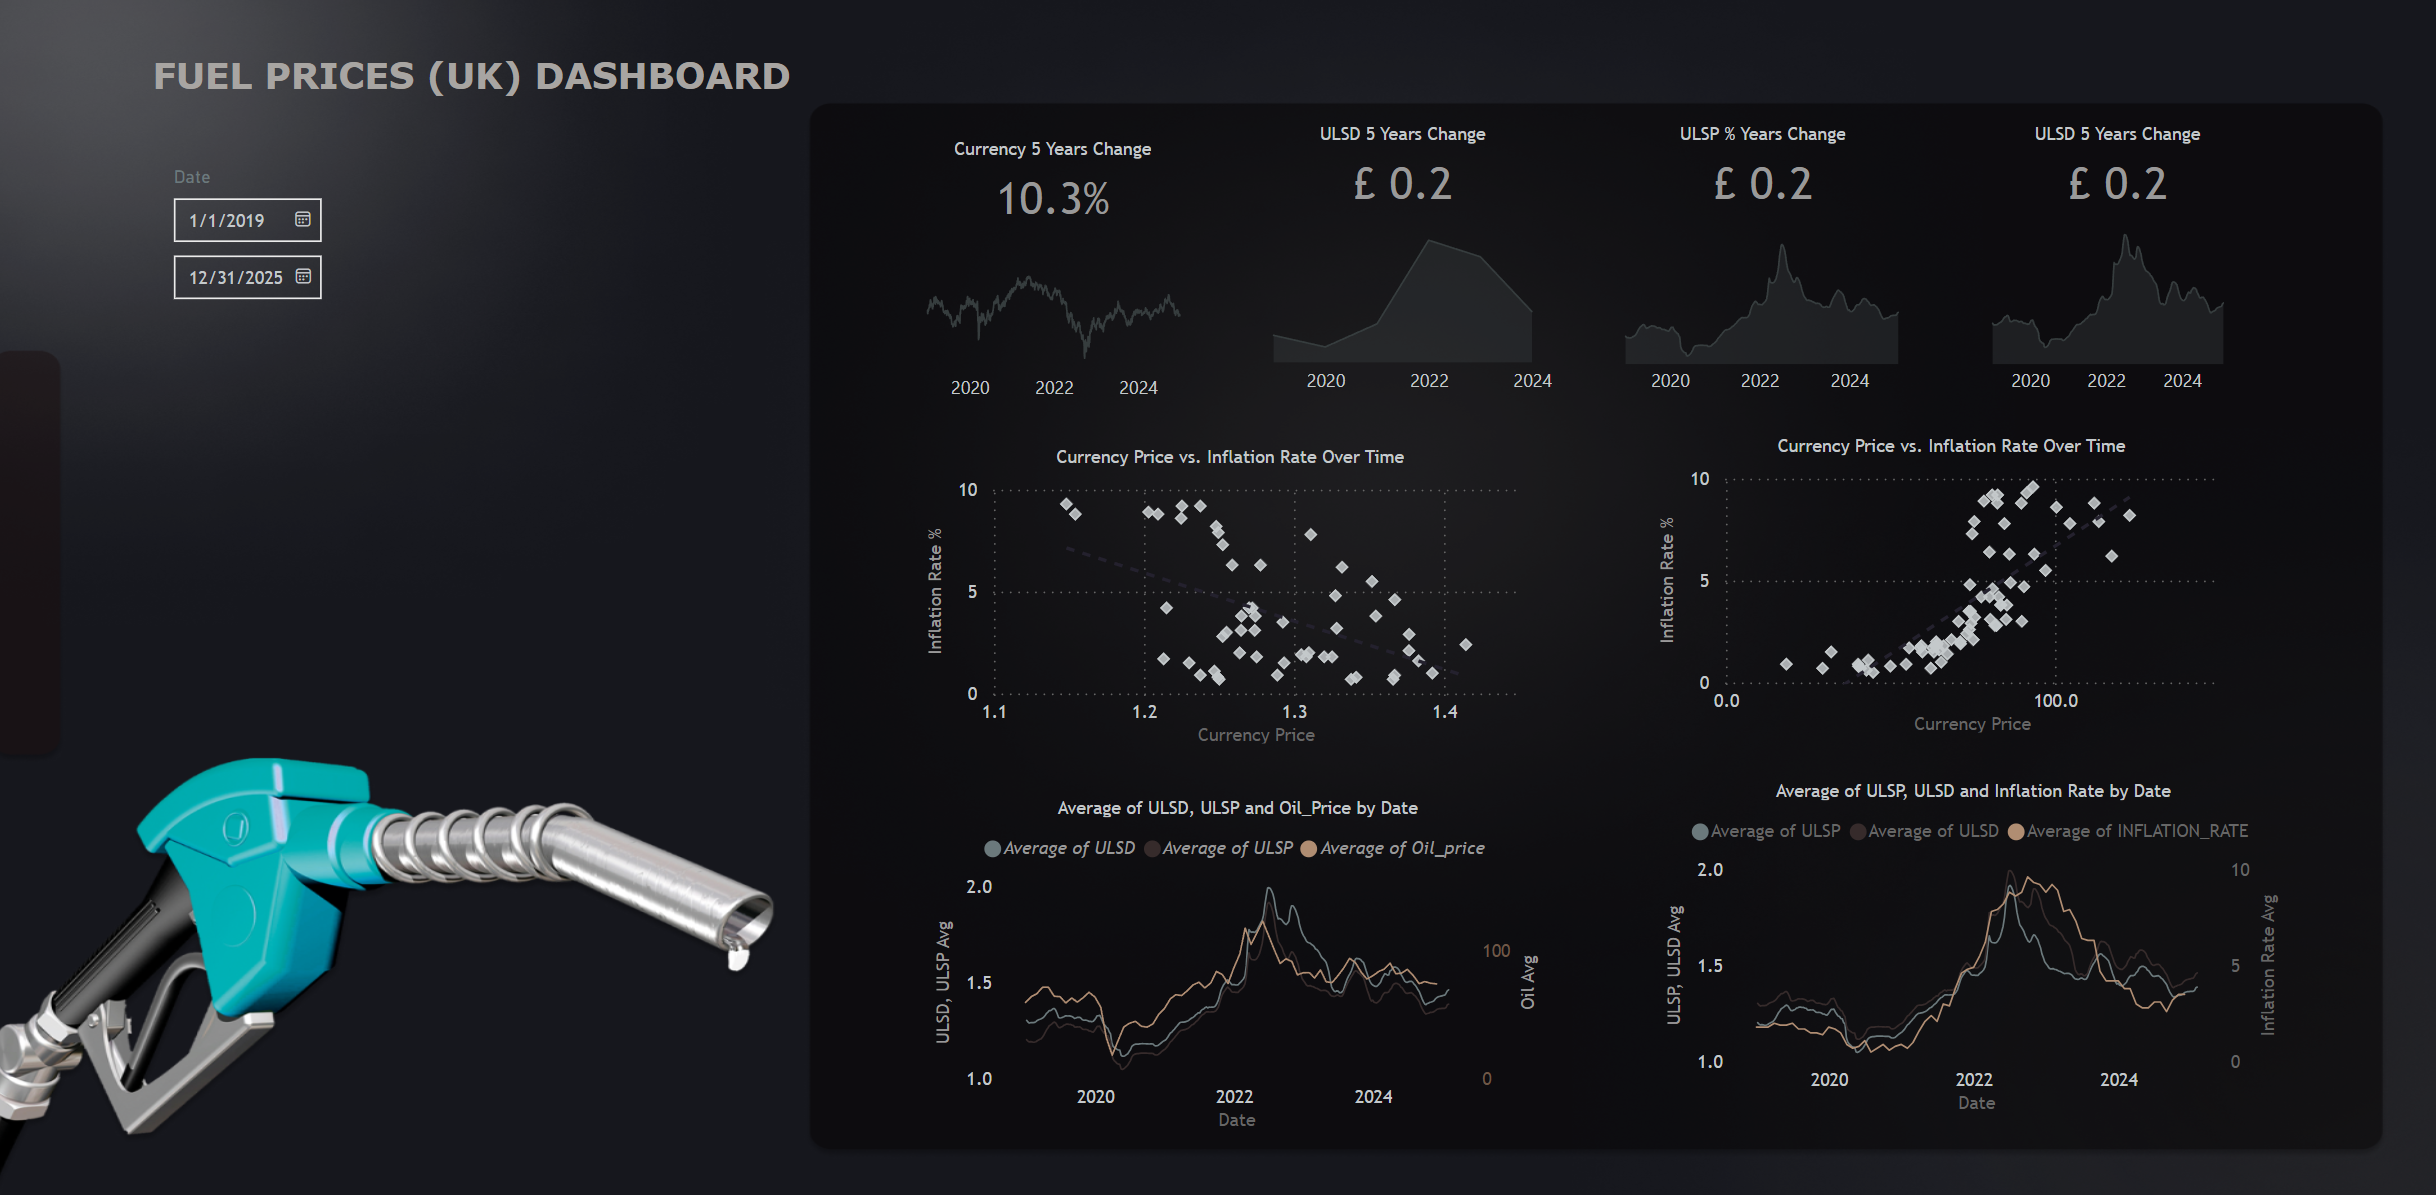

The dashboard page shown, as its layout file describes it:
{"tool":"powerbi","page":{"name":"Page 1","canvas":[1280,720],"ordinal":0},"visuals":[{"type":"lineChart","title":"Average of ULSD, ULSP and Oil_Price by Date","fields":{"Category":["DateTable.Date Hierarchy.Date","DateTable.Date Hierarchy.Month","DateTable.Date Hierarchy.Week","DateTable.Date Hierarchy.Year"],"Y":["Avg(FUEL.ULSD_PRICE)","Avg(FUEL.ULSP_PRICE)"],"Y2":["Avg(OIL.PRICE)"]},"box":[466.6,477.6,368.8,202.3],"z":0},{"type":"cardVisual","fields":{"Data":["FUEL.ULSP_Change"]},"box":[866.4,60.2,194.4,78.4],"z":1000},{"type":"cardVisual","fields":{"Data":["FUEL.ULSD_Change"]},"box":[1088.8,60.2,171.3,79.6],"z":2000},{"type":"lineChart","title":"Average of ULSP, ULSD and Inflation Rate by Date","fields":{"Category":["DateTable.Date Hierarchy.Date","DateTable.Date Hierarchy.Month","DateTable.Date Hierarchy.Week","DateTable.Date Hierarchy.Year"],"Y":["Avg(FUEL.ULSP)","Avg(FUEL.ULSD)"],"Y2":["Avg(INFLATION.INFLATION_RATE)"]},"box":[901.7,467.8,374.3,202.3],"z":3000},{"type":"lineChart","fields":{"Category":["DateTable.Date Hierarchy.Date","DateTable.Date Hierarchy.Month","DateTable.Date Hierarchy.Week","DateTable.Date Hierarchy.Year"],"Y":["CURRENCY.Currency_Change_Per_Year"]},"box":[449,138.5,184.1,113.6],"z":4000},{"type":"stackedAreaChart","fields":{"Category":["DateTable.Date.Variation.Date Hierarchy.Year","DateTable.Date.Variation.Date Hierarchy.Quarter","DateTable.Date.Variation.Date Hierarchy.Month","DateTable.Date.Variation.Date Hierarchy.Day"],"Y":["Sum(INFLATION.INFLATION_RATE)"]},"box":[655,128.8,187.7,119.7],"z":5000},{"type":"areaChart","fields":{"Y":["Sum(FUEL.ULSP)"],"Category":["FUEL.DATE"]},"box":[864.6,128.8,196.3,119.7],"z":6000},{"type":"stackedAreaChart","fields":{"Category":["FUEL.DATE"],"Y":["Sum(FUEL.ULSD)"]},"box":[1082.7,128.8,171.3,119.7],"z":7000},{"type":"scatterChart","title":"Currency Price vs. Inflation Rate Over Time","fields":{"X":["Sum(CURRENCY.Currency_Price)"],"Y":["Sum(INFLATION.INFLATION_RATE)"],"Category":["DateTable.Date Hierarchy.Date","DateTable.Date Hierarchy.Month","DateTable.Date Hierarchy.Week","DateTable.Date Hierarchy.Year"]},"box":[461.8,269.2,369.4,182.3],"z":8000},{"type":"cardVisual","fields":{"Data":["CURRENCY.Currency 5 Years Change"]},"box":[443.5,69.3,195,78.4],"z":9000},{"type":"cardVisual","fields":{"Data":["FUEL.ULSD 5 Years Change"]},"box":[651.3,60.2,195,78.4],"z":10000},{"type":"scatterChart","title":"Currency Price vs. Inflation Rate Over Time","fields":{"Y":["Sum(INFLATION.INFLATION_RATE)"],"Category":["DateTable.Date Hierarchy.Date","DateTable.Date Hierarchy.Month","DateTable.Date Hierarchy.Week","DateTable.Date Hierarchy.Year"],"X":["Sum(OIL.Oil_price)"]},"box":[897.4,262.5,356.7,182.3],"z":11000},{"type":"textbox","box":[0,30.4,390.7,58.9],"z":15000},{"type":"slicer","fields":{"Values":["DateTable.Date"]},"box":[4.9,97.8,167.1,91.1],"z":16000}]}

Visuals, with their boxes on the page's 1280x720 design canvas (x1, y1, x2, y2). These are canvas units, not pixel positions in the 2436x1195 screenshot, which may show the page scaled, cropped or inside an application window:
"Average of ULSD, ULSP and Oil_Price by Date" lineChart: <region>467, 478, 835, 680</region>
cardVisual - FUEL.ULSP_Change: <region>866, 60, 1061, 139</region>
cardVisual - FUEL.ULSD_Change: <region>1089, 60, 1260, 140</region>
"Average of ULSP, ULSD and Inflation Rate by Date" lineChart: <region>902, 468, 1276, 670</region>
lineChart - DateTable.Date Hierarchy.Date x DateTable.Date Hierarchy.Month: <region>449, 138, 633, 252</region>
stackedAreaChart - DateTable.Date.Variation.Date Hierarchy.Year x DateTable.Date.Variation.Date Hierarchy.Quarter: <region>655, 129, 843, 248</region>
areaChart - Sum(FUEL.ULSP) x FUEL.DATE: <region>865, 129, 1061, 248</region>
stackedAreaChart - FUEL.DATE x Sum(FUEL.ULSD): <region>1083, 129, 1254, 248</region>
"Currency Price vs. Inflation Rate Over Time" scatterChart: <region>462, 269, 831, 452</region>
cardVisual - CURRENCY.Currency 5 Years Change: <region>444, 69, 638, 148</region>
cardVisual - FUEL.ULSD 5 Years Change: <region>651, 60, 846, 139</region>
"Currency Price vs. Inflation Rate Over Time" scatterChart: <region>897, 262, 1254, 445</region>
textbox: <region>0, 30, 391, 89</region>
slicer - DateTable.Date: <region>5, 98, 172, 189</region>
